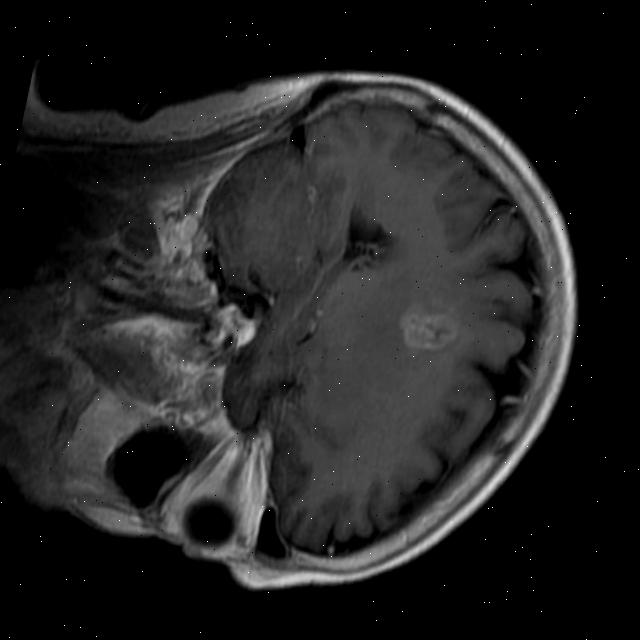Glioma: (394, 303, 464, 357)
Pituitary: (205, 300, 263, 353)
